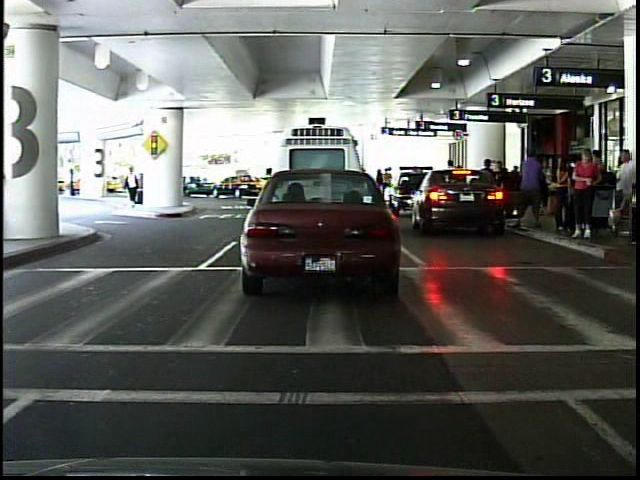person: (569, 145, 605, 246), (119, 160, 150, 210), (66, 163, 81, 202)
